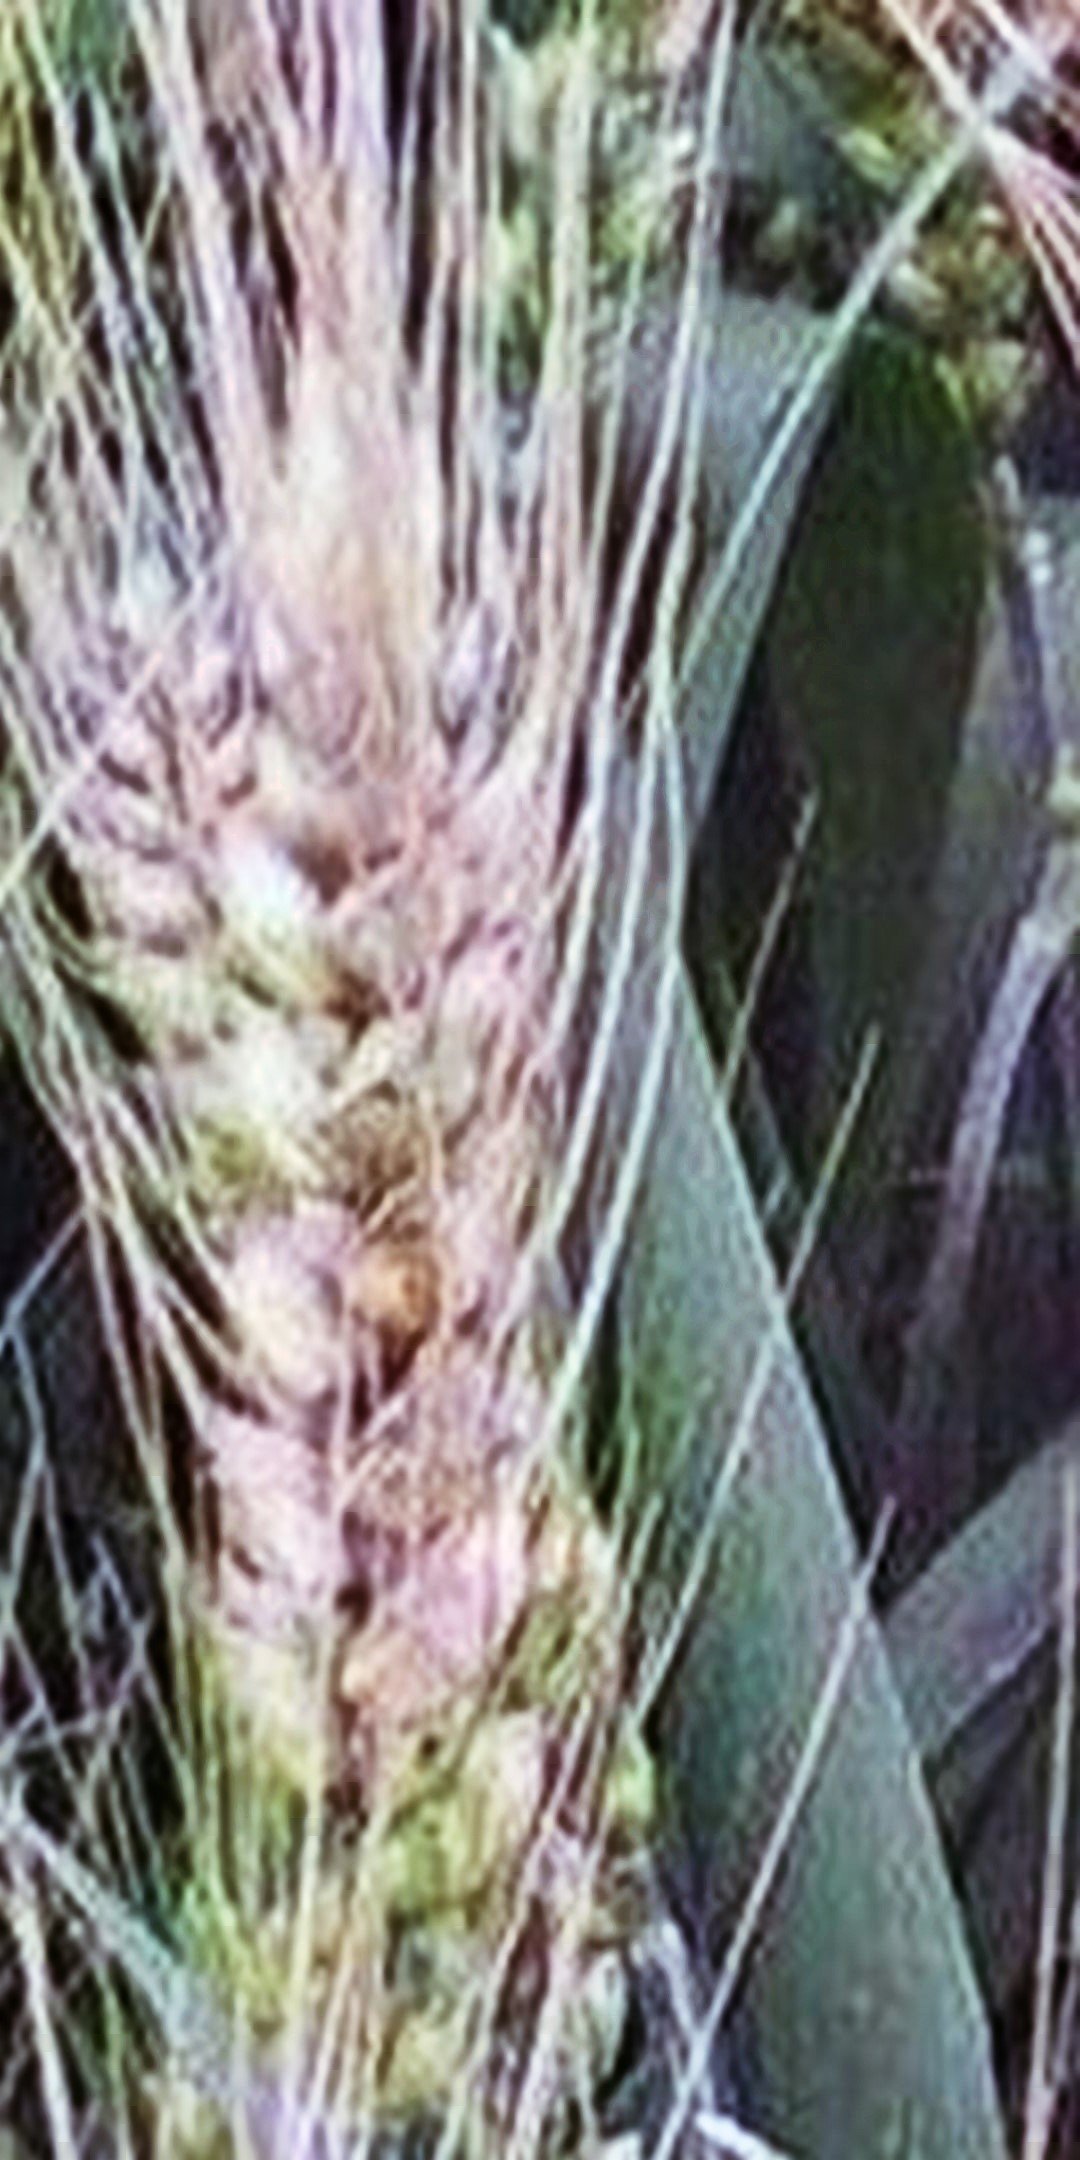Wheat scab: (85, 625, 674, 1905)
